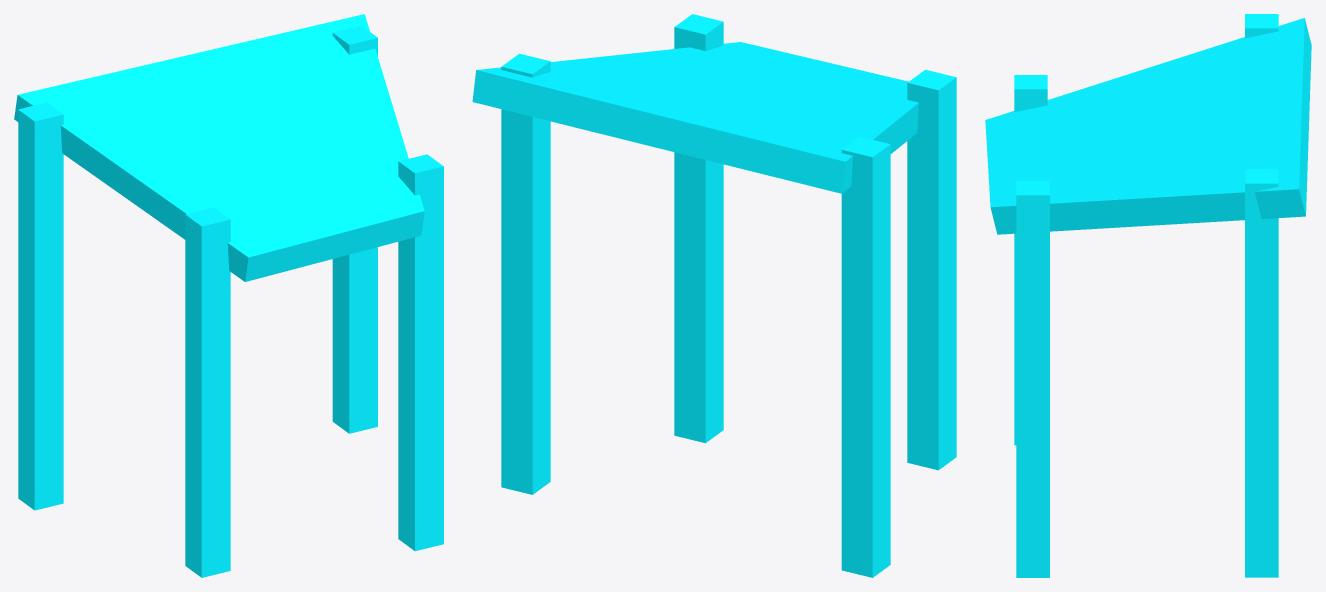
Rendered from SM_Bld_Awning_08_Collision.fbx.
The picture shows the model from 3 angles, left to right: view 1: azimuth 30°, elevation 25°; view 2: azimuth 150°, elevation 25°; view 3: azimuth 270°, elevation 25°; orthographic projection. The views are drawn at different scales.
Visible parts, largest first — view 1: SM_Bld_Awning_08_Collision; view 2: SM_Bld_Awning_08_Collision; view 3: SM_Bld_Awning_08_Collision.
Part boxes in pixels (x1,y1,x2,y2): SM_Bld_Awning_08_Collision: (14,14,443,577); SM_Bld_Awning_08_Collision: (472,14,956,577); SM_Bld_Awning_08_Collision: (985,14,1311,577).
Bounding box in the file's own units: 246 × 273 × 193.
